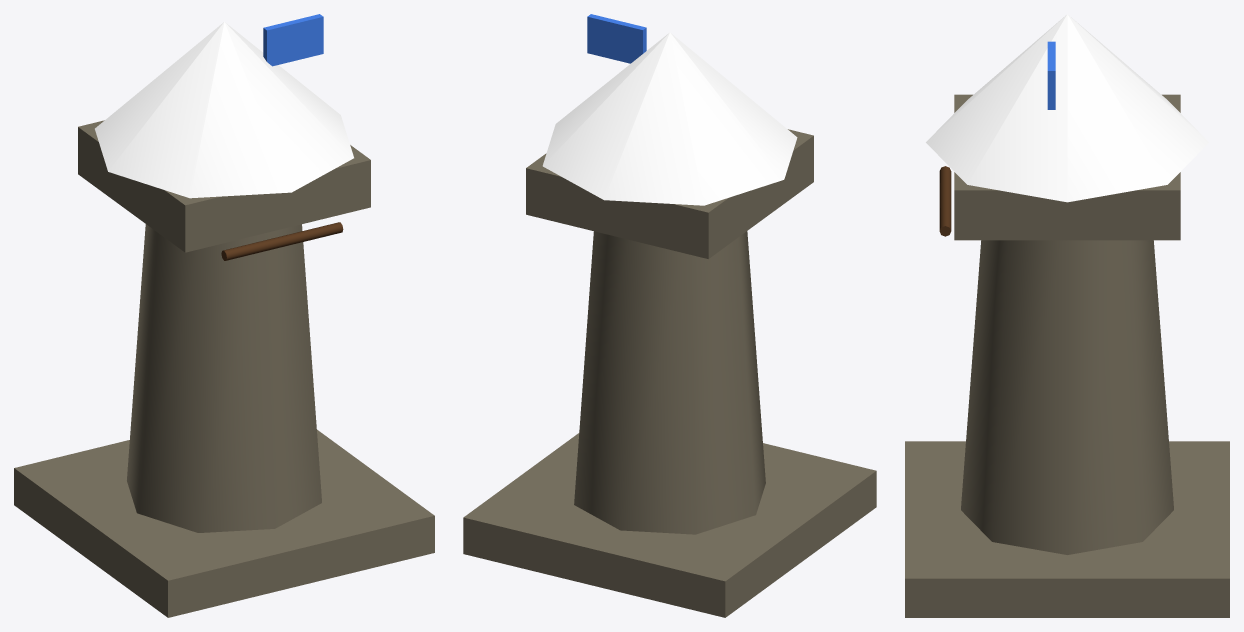
The model's file is tower.glb.
3 views of the same model, side by side, from view 1: azimuth 30°, elevation 25°; view 2: azimuth 150°, elevation 25°; view 3: azimuth 270°, elevation 25° (orthographic). The views are drawn at different scales.
Parts seen in each view (by area): view 1: tower-stone-shaft, tower-footprint, tower-roof, tower-battlement, tower-team-flag, tower-bow-sign; view 2: tower-stone-shaft, tower-footprint, tower-roof, tower-battlement, tower-team-flag; view 3: tower-stone-shaft, tower-footprint, tower-roof, tower-battlement, tower-bow-sign, tower-team-flag.
Part boxes in pixels (x1,y1,x2,y2): tower-stone-shaft: (127,224,321,532); tower-footprint: (14,429,434,617); tower-roof: (95,22,353,198); tower-battlement: (78,120,370,252); tower-team-flag: (263,14,323,66); tower-bow-sign: (221,222,343,260); tower-stone-shaft: (574,231,765,534); tower-footprint: (463,433,876,617); tower-roof: (542,32,797,205); tower-battlement: (526,129,813,258); tower-team-flag: (587,14,646,63); tower-stone-shaft: (961,240,1173,554); tower-footprint: (905,441,1229,617); tower-roof: (926,14,1208,202); tower-battlement: (954,94,1180,240); tower-bow-sign: (939,166,951,236); tower-team-flag: (1047,41,1055,109).
Size of the model in its own units: 1.65 by 3 by 1.65.
